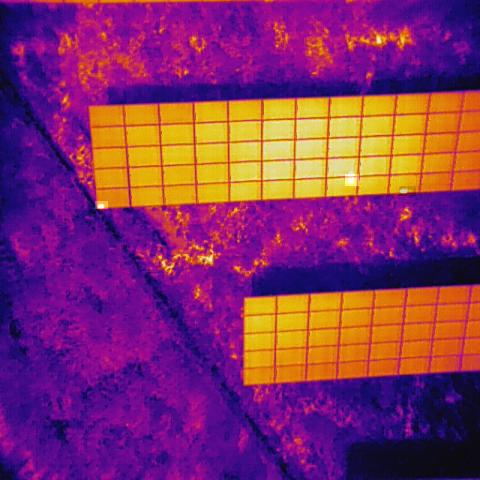fault: (399, 186, 416, 197), (345, 174, 359, 186), (95, 201, 108, 209)
